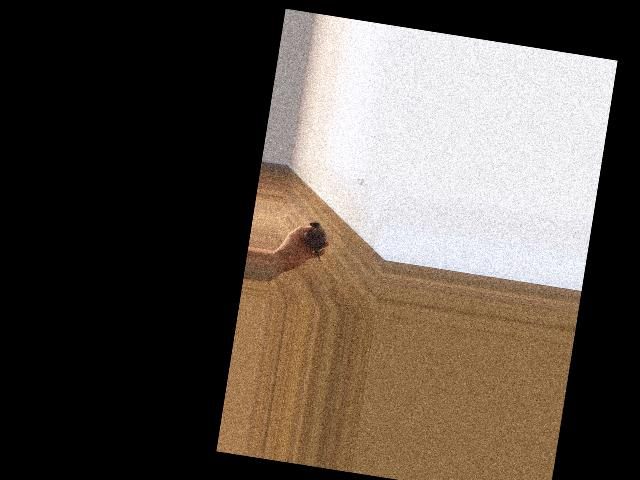beet: (300, 220, 329, 262)
